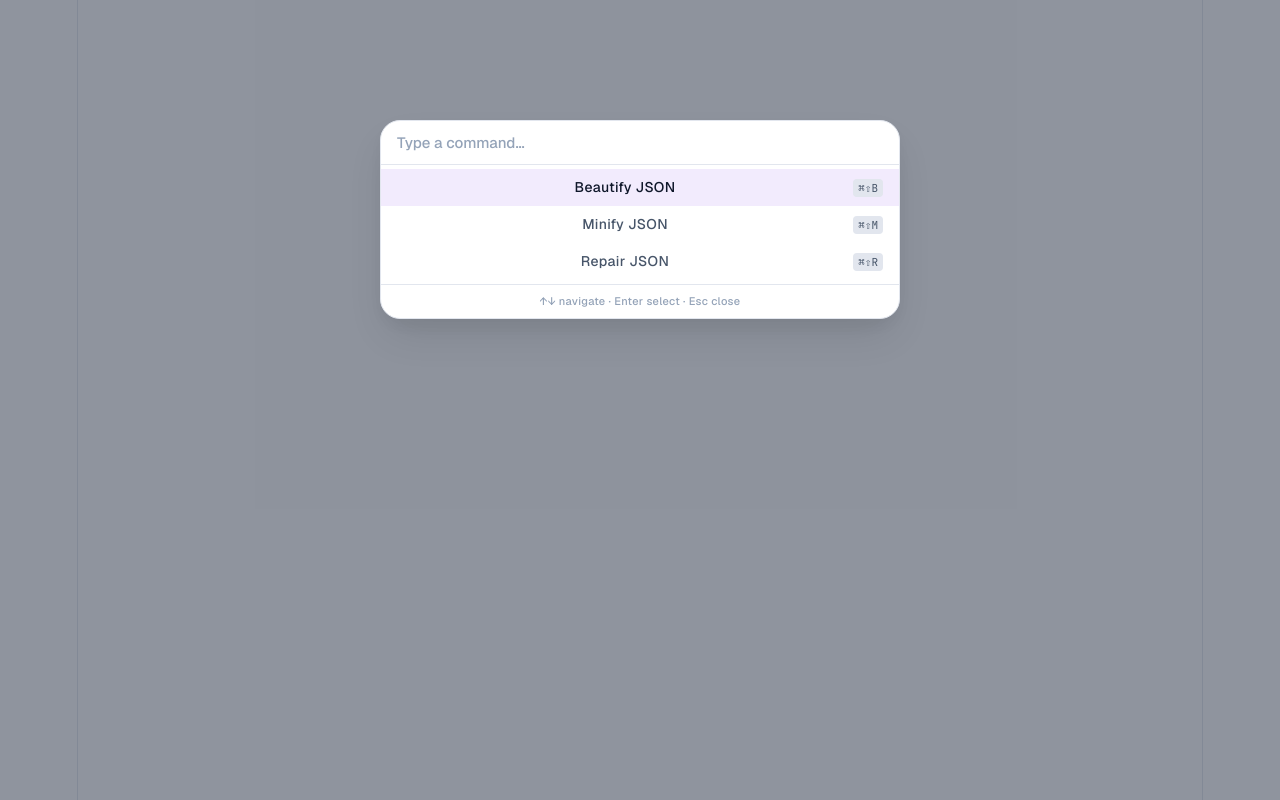
Test case: CommandPalette — no match › shows 'No commands match' when nothing matches the query
Type "zzzzz" into the field named "Search commands" at {"x": 640, "y": 143}, box [381,121,899,165]
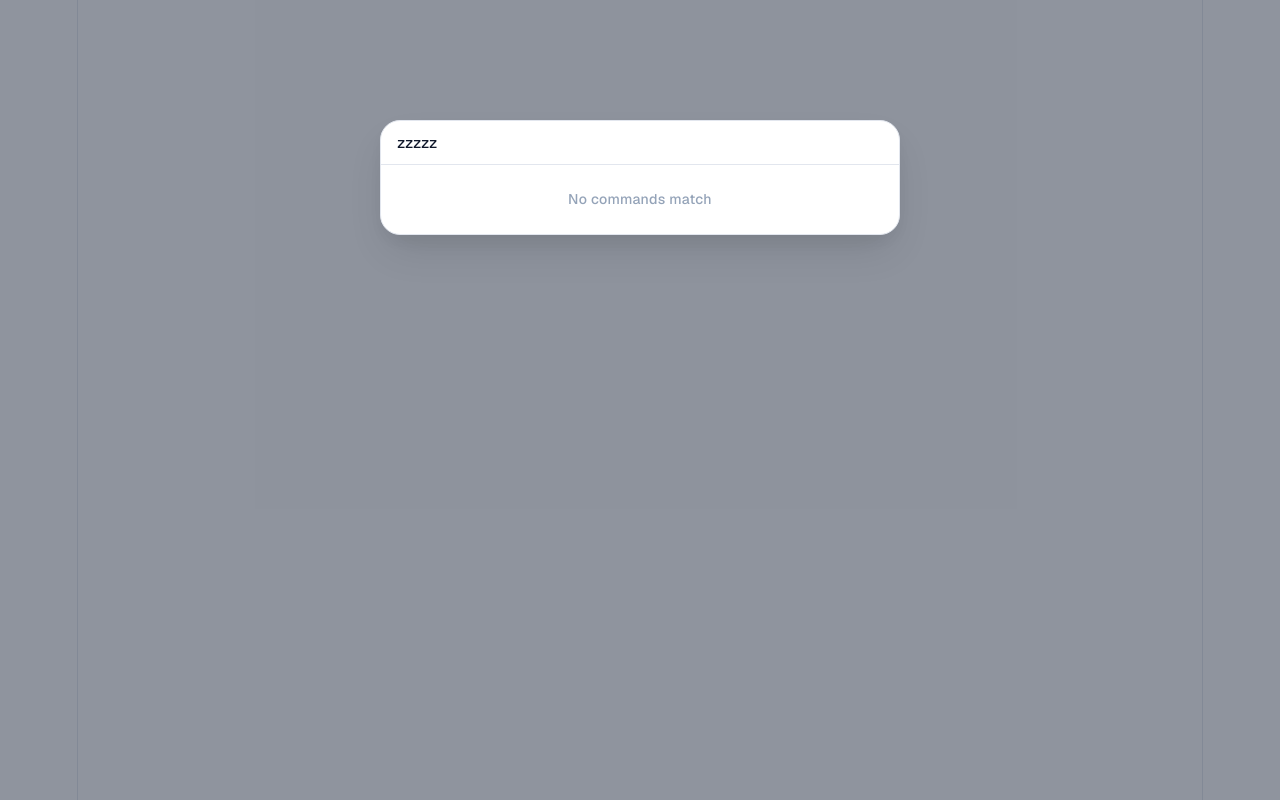
Check: the list item "No commands match" is shown, box [568,190,712,208]
